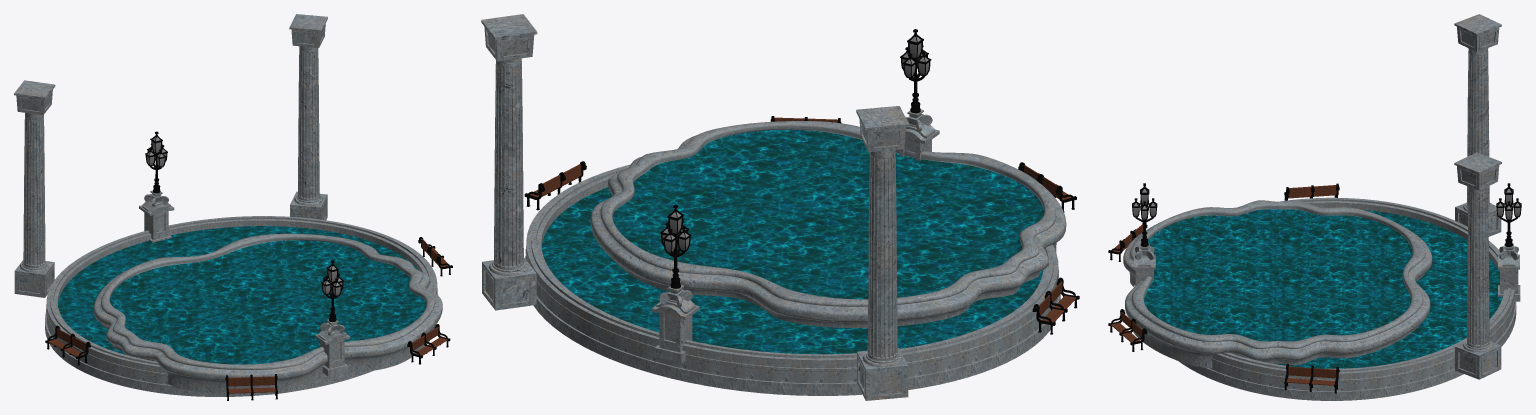
File: objFountain.obj
The picture shows the model from 3 angles, left to right: view 1: azimuth 30°, elevation 25°; view 2: azimuth 150°, elevation 25°; view 3: azimuth 270°, elevation 25°; orthographic projection. The views are drawn at different scales.
Parts seen in each view (by area): view 1: pool, pilar1, pilar, buildingRender:building:lamp18, lamp18, bench5, bench3, bench, bench4; view 2: pool, pilar, pilar1, lamp18, buildingRender:building:lamp18, bench3, bench4, bench5; view 3: pool, pilar, pilar1, lamp18, buildingRender:building:lamp18, bench4, bench, bench3, bench5.
Boxes of the visible parts, box(x1,y1,x2,y2) form: pool: box(45, 216, 442, 396); pilar1: box(14, 80, 55, 297); pilar: box(289, 14, 327, 220); buildingRender:building:lamp18: box(315, 260, 350, 376); lamp18: box(139, 131, 174, 242); bench5: box(225, 374, 277, 400); bench3: box(45, 325, 90, 365); bench: box(407, 324, 450, 364); bench4: box(418, 237, 452, 276); pool: box(525, 121, 1066, 395); pilar: box(481, 14, 537, 310); pilar1: box(856, 106, 908, 400); lamp18: box(651, 204, 699, 362); buildingRender:building:lamp18: box(899, 29, 939, 160); bench3: box(1032, 277, 1079, 334); bench4: box(524, 161, 586, 210); bench5: box(1018, 162, 1076, 212); pool: box(1123, 197, 1516, 400); pilar: box(1454, 152, 1501, 379); pilar1: box(1454, 14, 1501, 236); lamp18: box(1496, 183, 1521, 301); buildingRender:building:lamp18: box(1132, 183, 1157, 287); bench4: box(1284, 364, 1339, 393); bench: box(1108, 309, 1147, 351); bench3: box(1284, 183, 1339, 200); bench5: box(1108, 223, 1147, 261).
Size of what is drawn, in the model's own units: 7.49 by 3.9 by 6.66.
Materials: 5 (3 with a texture image).
